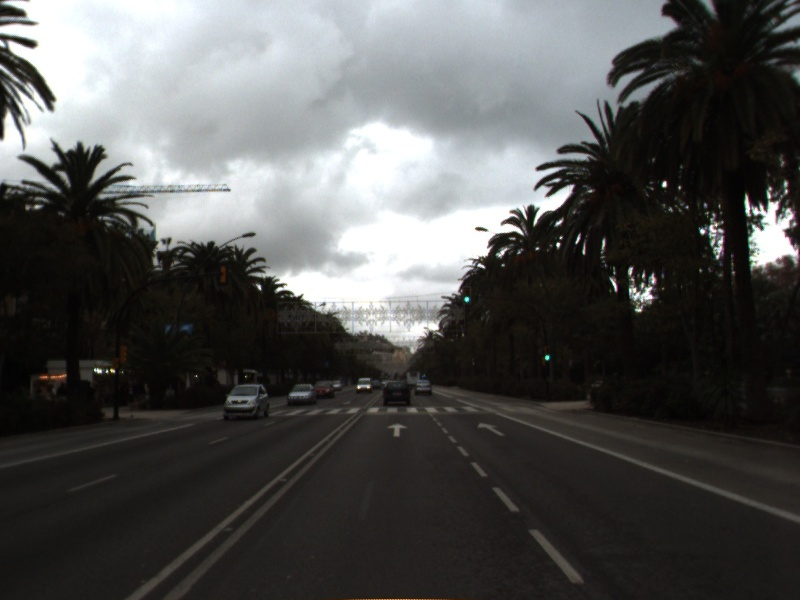STRAIGHT: (475, 420, 508, 438), (385, 420, 410, 438)
